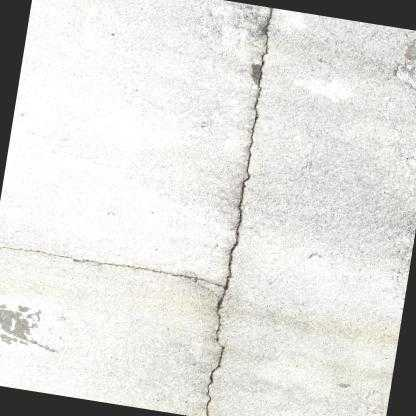crack: (204, 7, 272, 416), (0, 246, 221, 286)
